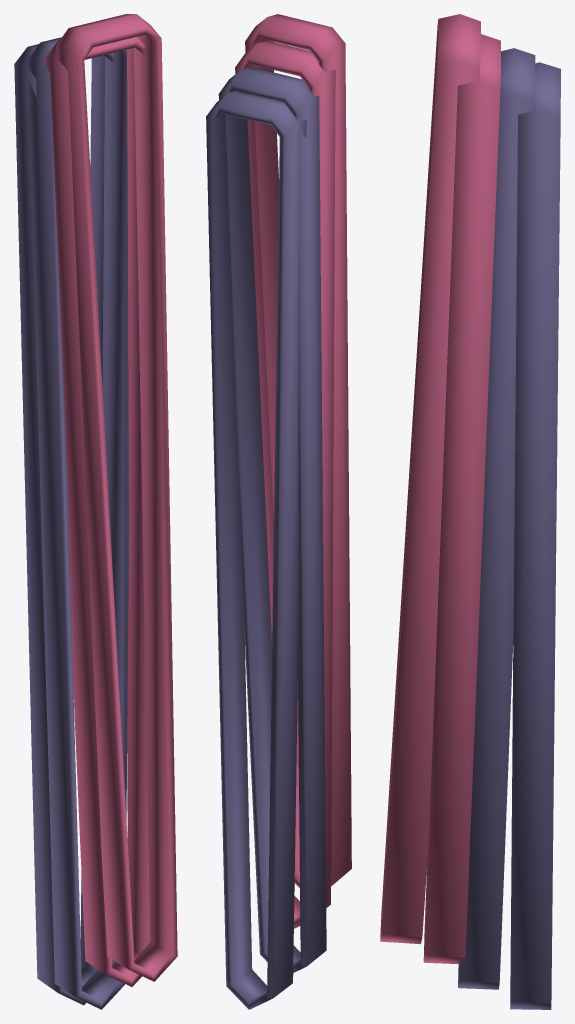
File: band_1.glb
3 renders of one model, left to right at view 1: azimuth 30°, elevation 25°; view 2: azimuth 150°, elevation 25°; view 3: azimuth 270°, elevation 25°, orthographic. The views are drawn at different scales.
Parts seen in each view (by area): view 1: GymEquipments_14; view 2: GymEquipments_14; view 3: GymEquipments_14.
Part boxes in pixels (x1=…): GymEquipments_14: x1=14, y1=14, x2=177, y2=1009; GymEquipments_14: x1=206, y1=14, x2=351, y2=1009; GymEquipments_14: x1=380, y1=14, x2=560, y2=1009.
Size of the model in its own units: 0.0366 by 0.4168 by 0.0695.
1 material, 1 textured.
